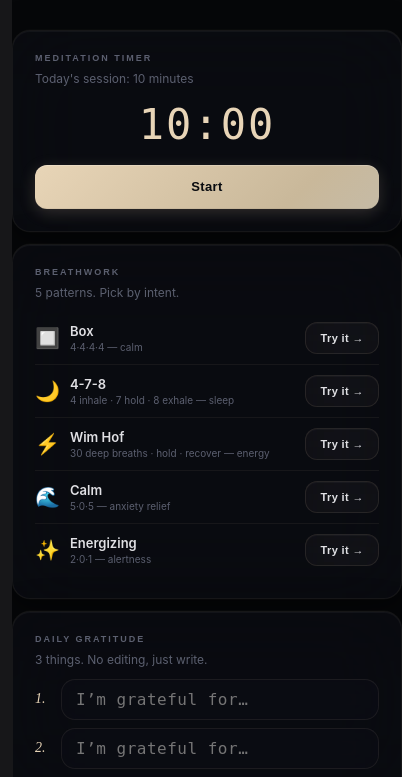
MindView › gratitude entry persists via setProtocolState
The image size is (402, 777).
In the field with placeholder "I’m grateful for…" next to "1.": (220, 699) [61, 679, 379, 720], type "Health"
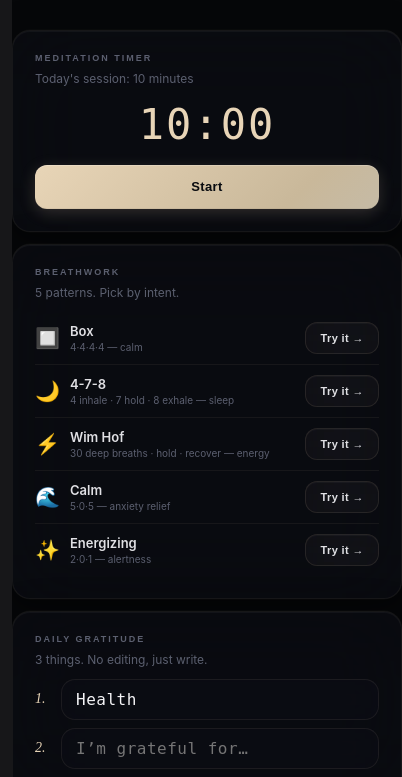
In the field with placeholder "I’m grateful for…" next to "2.": (220, 748) [61, 728, 379, 769], type "Family"
(page scrolled)
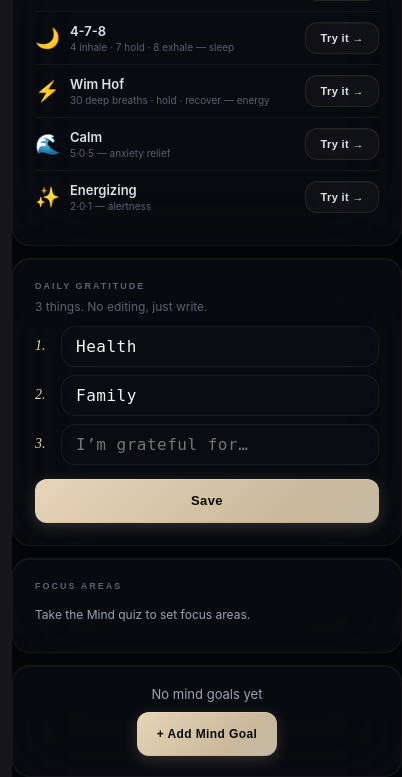
In the field with placeholder "I’m grateful for…": (220, 444) [61, 424, 379, 465], type "Coffee"
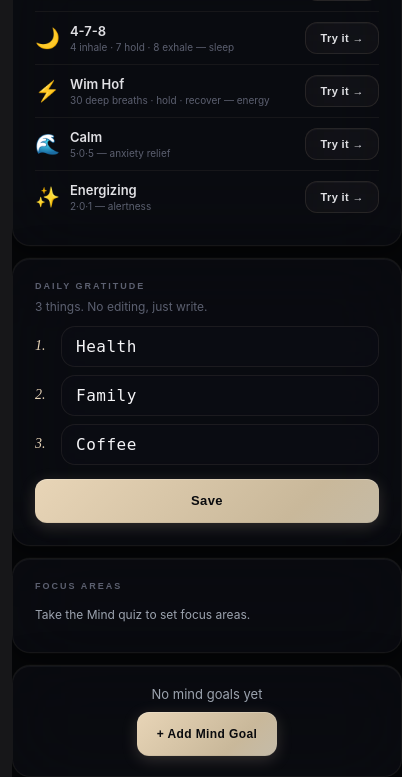
Click the button "Save": click(207, 501) [35, 479, 379, 523]
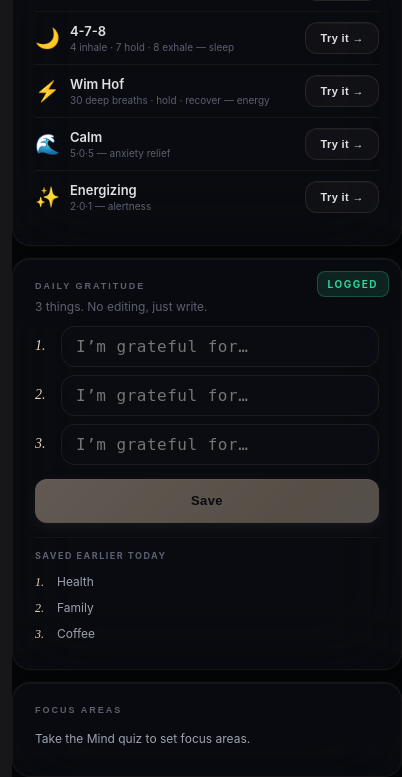
Result: the text "Saved earlier today" is shown at [35, 550, 167, 561]
Result: the text "Family" is shown at [57, 599, 94, 617]
Result: the text "Coffee" is shown at [57, 625, 95, 643]
